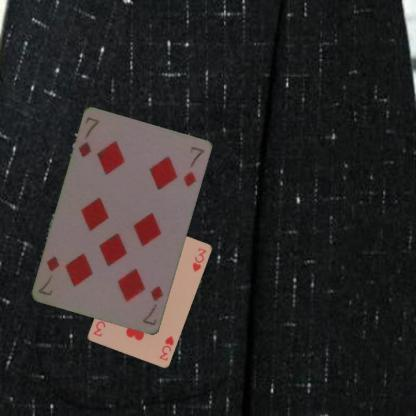3h: (156, 332, 174, 362)
7d: (76, 114, 101, 159), (140, 284, 164, 328)
